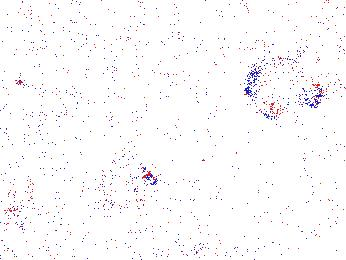flame jellyfish: (246, 56, 326, 121), (97, 164, 158, 221), (1, 163, 34, 217)
